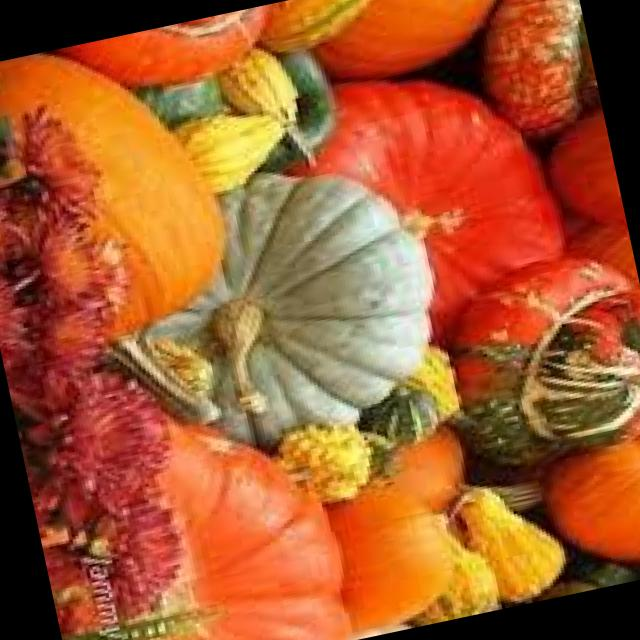pumpkin: (102, 145, 458, 475), (15, 361, 367, 640), (266, 47, 572, 347), (0, 23, 239, 369), (293, 383, 541, 640), (417, 238, 640, 498), (434, 253, 640, 487), (132, 70, 322, 224), (418, 464, 586, 620), (236, 0, 414, 146), (452, 0, 608, 161), (66, 4, 282, 117), (297, 0, 539, 90), (527, 105, 629, 252), (557, 422, 640, 588)
